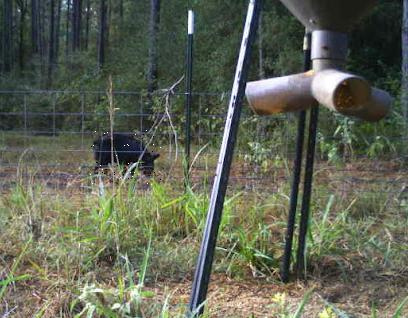Hog: (90, 130, 161, 185)
